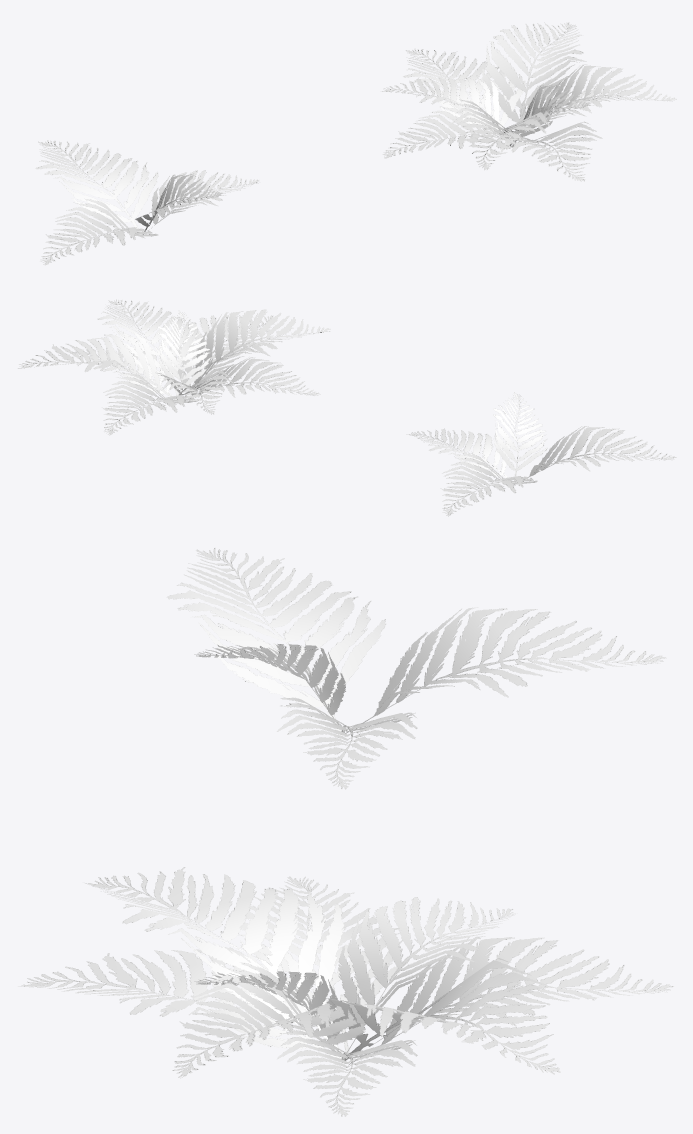
File: fern_models.FBX
The picture shows the model from 3 angles, top to bottom: view 1: azimuth 30°, elevation 25°; view 2: azimuth 150°, elevation 25°; view 3: azimuth 270°, elevation 25°; orthographic projection. The views are drawn at different scales.
Parts seen in each view (by area): view 1: fern_2, fern_1; view 2: fern_2, fern_1; view 3: fern_2, fern_1.
Boxes of the visible parts, x1,y1,x2,y2 form: fern_2: (381,22,676,181); fern_1: (35,140,259,265); fern_2: (18,299,330,435); fern_1: (406,392,676,516); fern_2: (18,867,673,1116); fern_1: (166,548,666,789).
Bounding box in the file's own units: 102 × 11.46 × 51.22.
